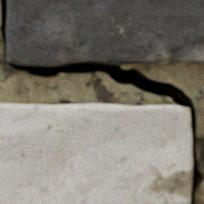brick: (0, 103, 191, 203), (6, 0, 203, 65)
crack: (0, 0, 203, 203)
